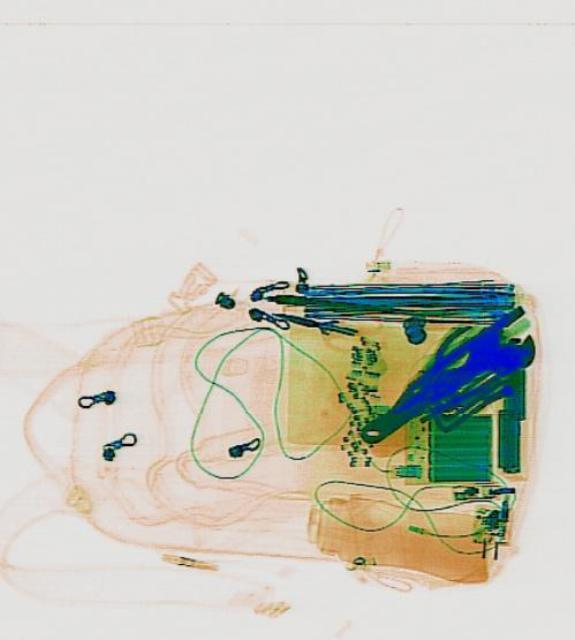Wrench: (344, 310, 540, 454)
